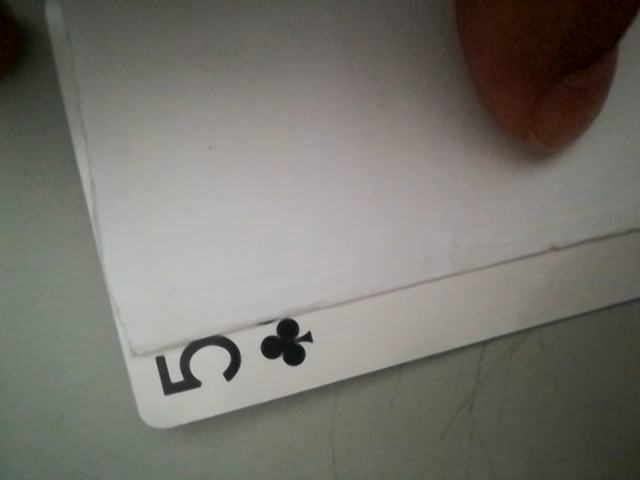mh 5: (147, 308, 325, 415)
